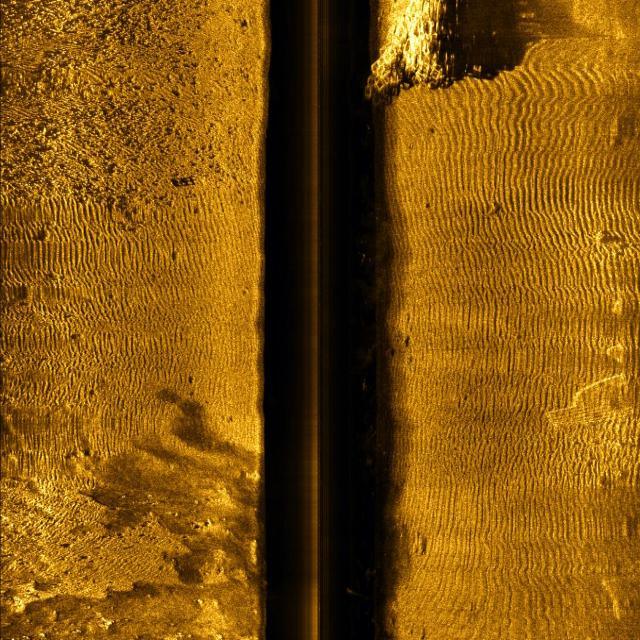artificial reef: (366, 0, 462, 116)
